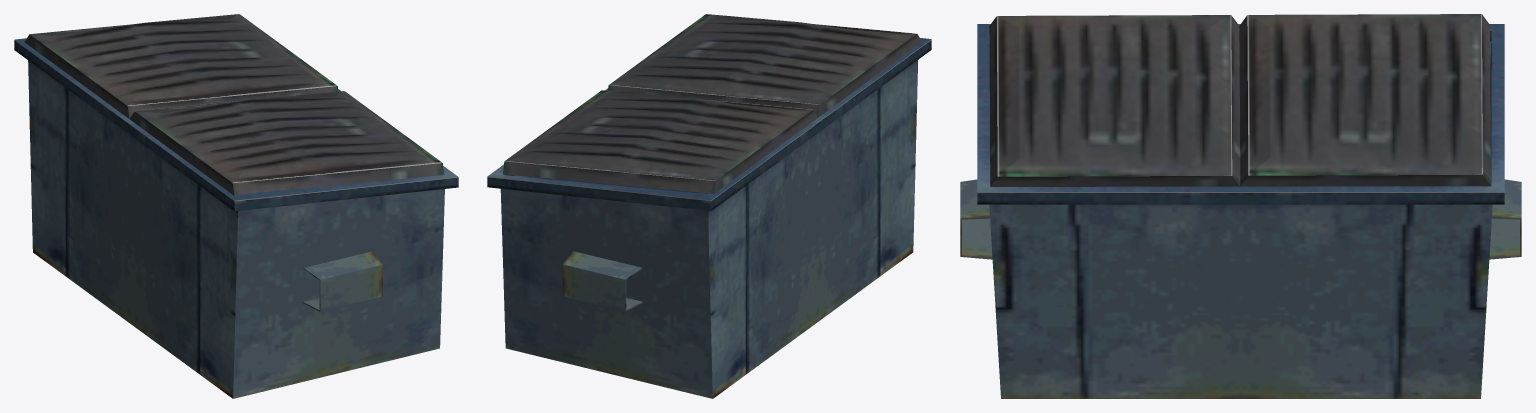
Rendered from Urban_DumpsterDiagonalClosedBlue_Model.fbx.
3 views of the same model, side by side, from view 1: azimuth 30°, elevation 25°; view 2: azimuth 150°, elevation 25°; view 3: azimuth 270°, elevation 25° (orthographic). The views are drawn at different scales.
Parts seen in each view (by area): view 1: Urban_DumpsterDiagonalClosedBlue_Mesh; view 2: Urban_DumpsterDiagonalClosedBlue_Mesh; view 3: Urban_DumpsterDiagonalClosedBlue_Mesh.
Boxes of the visible parts, <box> form: Urban_DumpsterDiagonalClosedBlue_Mesh: <box>14,14,458,398</box>; Urban_DumpsterDiagonalClosedBlue_Mesh: <box>487,14,931,398</box>; Urban_DumpsterDiagonalClosedBlue_Mesh: <box>960,14,1521,398</box>.
Bounding box in the file's own units: 2.03 × 1.89 × 3.67.
